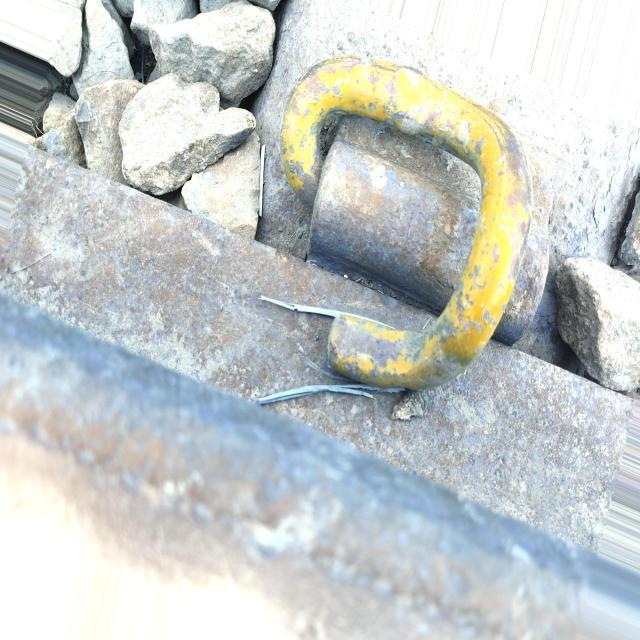Good Fasteners: (274, 54, 564, 398)
